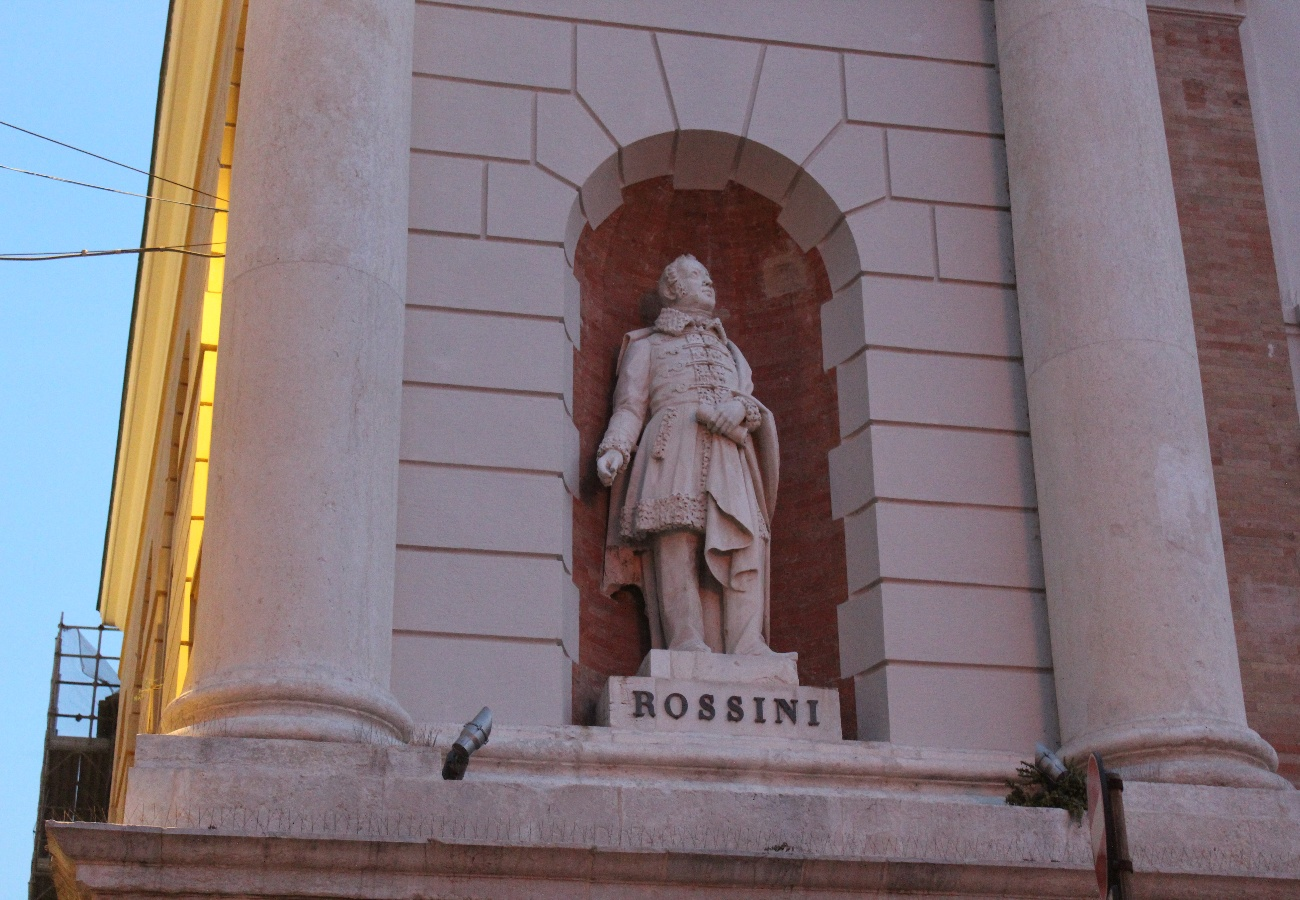Gioachino Rossini: (566, 139, 851, 758)
